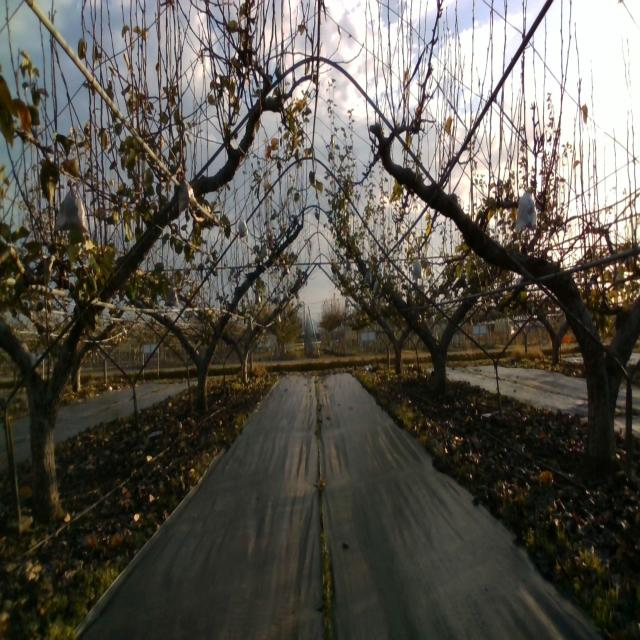pearbags: (56, 178, 88, 233), (514, 186, 538, 232), (177, 176, 200, 214), (412, 256, 423, 280)
